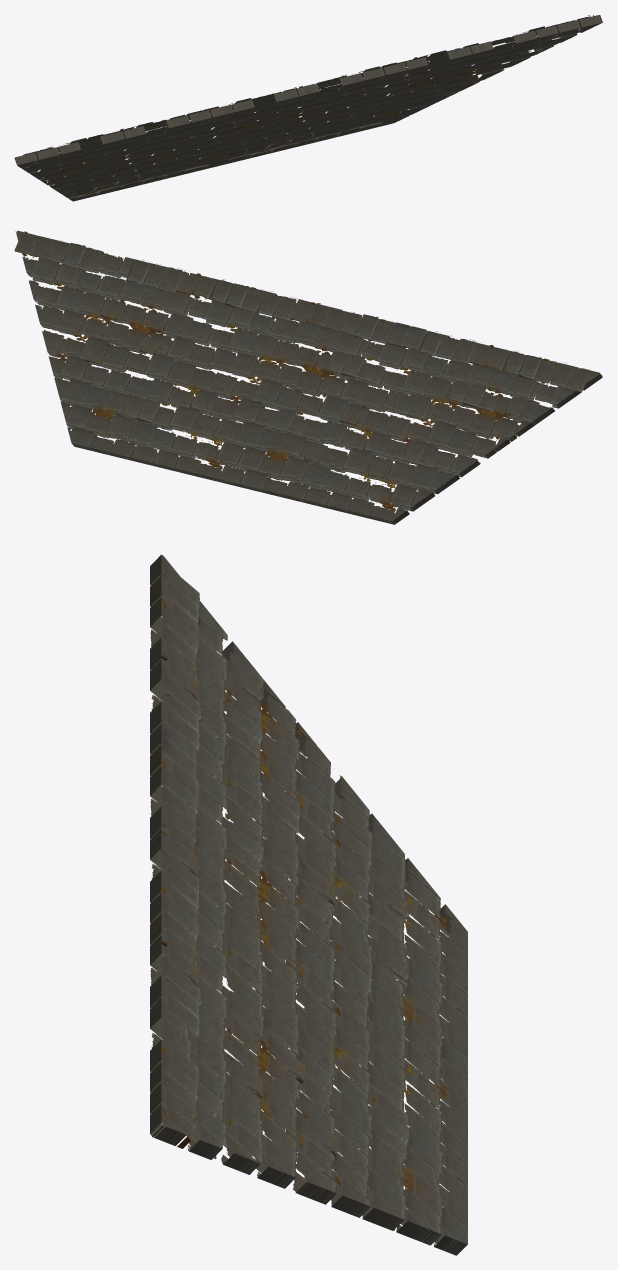
3 renders of one model, top to bottom at view 1: azimuth 30°, elevation 25°; view 2: azimuth 150°, elevation 25°; view 3: azimuth 270°, elevation 25°, orthographic. The views are drawn at different scales.
Visible parts, largest first — view 1: SM_Greathall_Roof_03_LOD0; view 2: SM_Greathall_Roof_03_LOD0; view 3: SM_Greathall_Roof_03_LOD0.
Boxes of the visible parts, x1,y1,x2,y2 form: SM_Greathall_Roof_03_LOD0: [14, 15, 602, 201]; SM_Greathall_Roof_03_LOD0: [14, 230, 602, 524]; SM_Greathall_Roof_03_LOD0: [150, 554, 467, 1255].
Bounding box in the file's own units: 16 × 3.44 × 3.76.
Materials: 1 (1 with a texture image).
